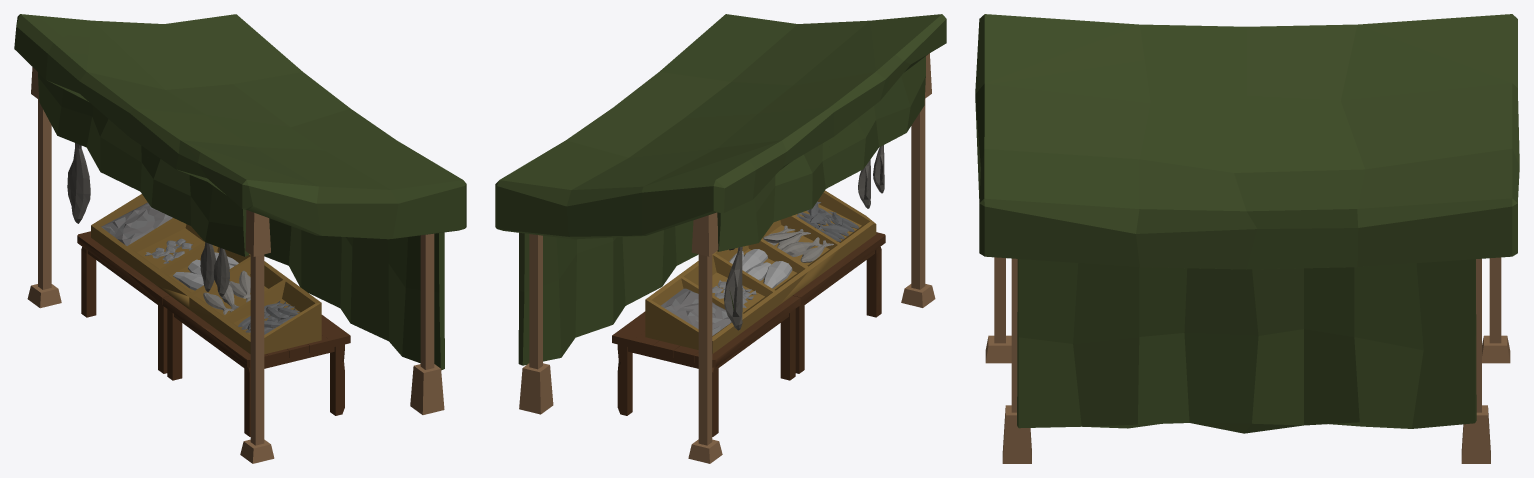
Rendered from fish_shop.fbx.
3 renders of one model, left to right at view 1: azimuth 30°, elevation 25°; view 2: azimuth 150°, elevation 25°; view 3: azimuth 270°, elevation 25°, orthographic. The views are drawn at different scales.
Parts seen in each view (by area): view 1: fish_shop; view 2: fish_shop; view 3: fish_shop.
Part boxes in pixels (x1=…): fish_shop: x1=14, y1=14, x2=466, y2=463; fish_shop: x1=495, y1=14, x2=946, y2=463; fish_shop: x1=975, y1=14, x2=1519, y2=463.
Bounding box in the file's own units: 203 × 239 × 354.
